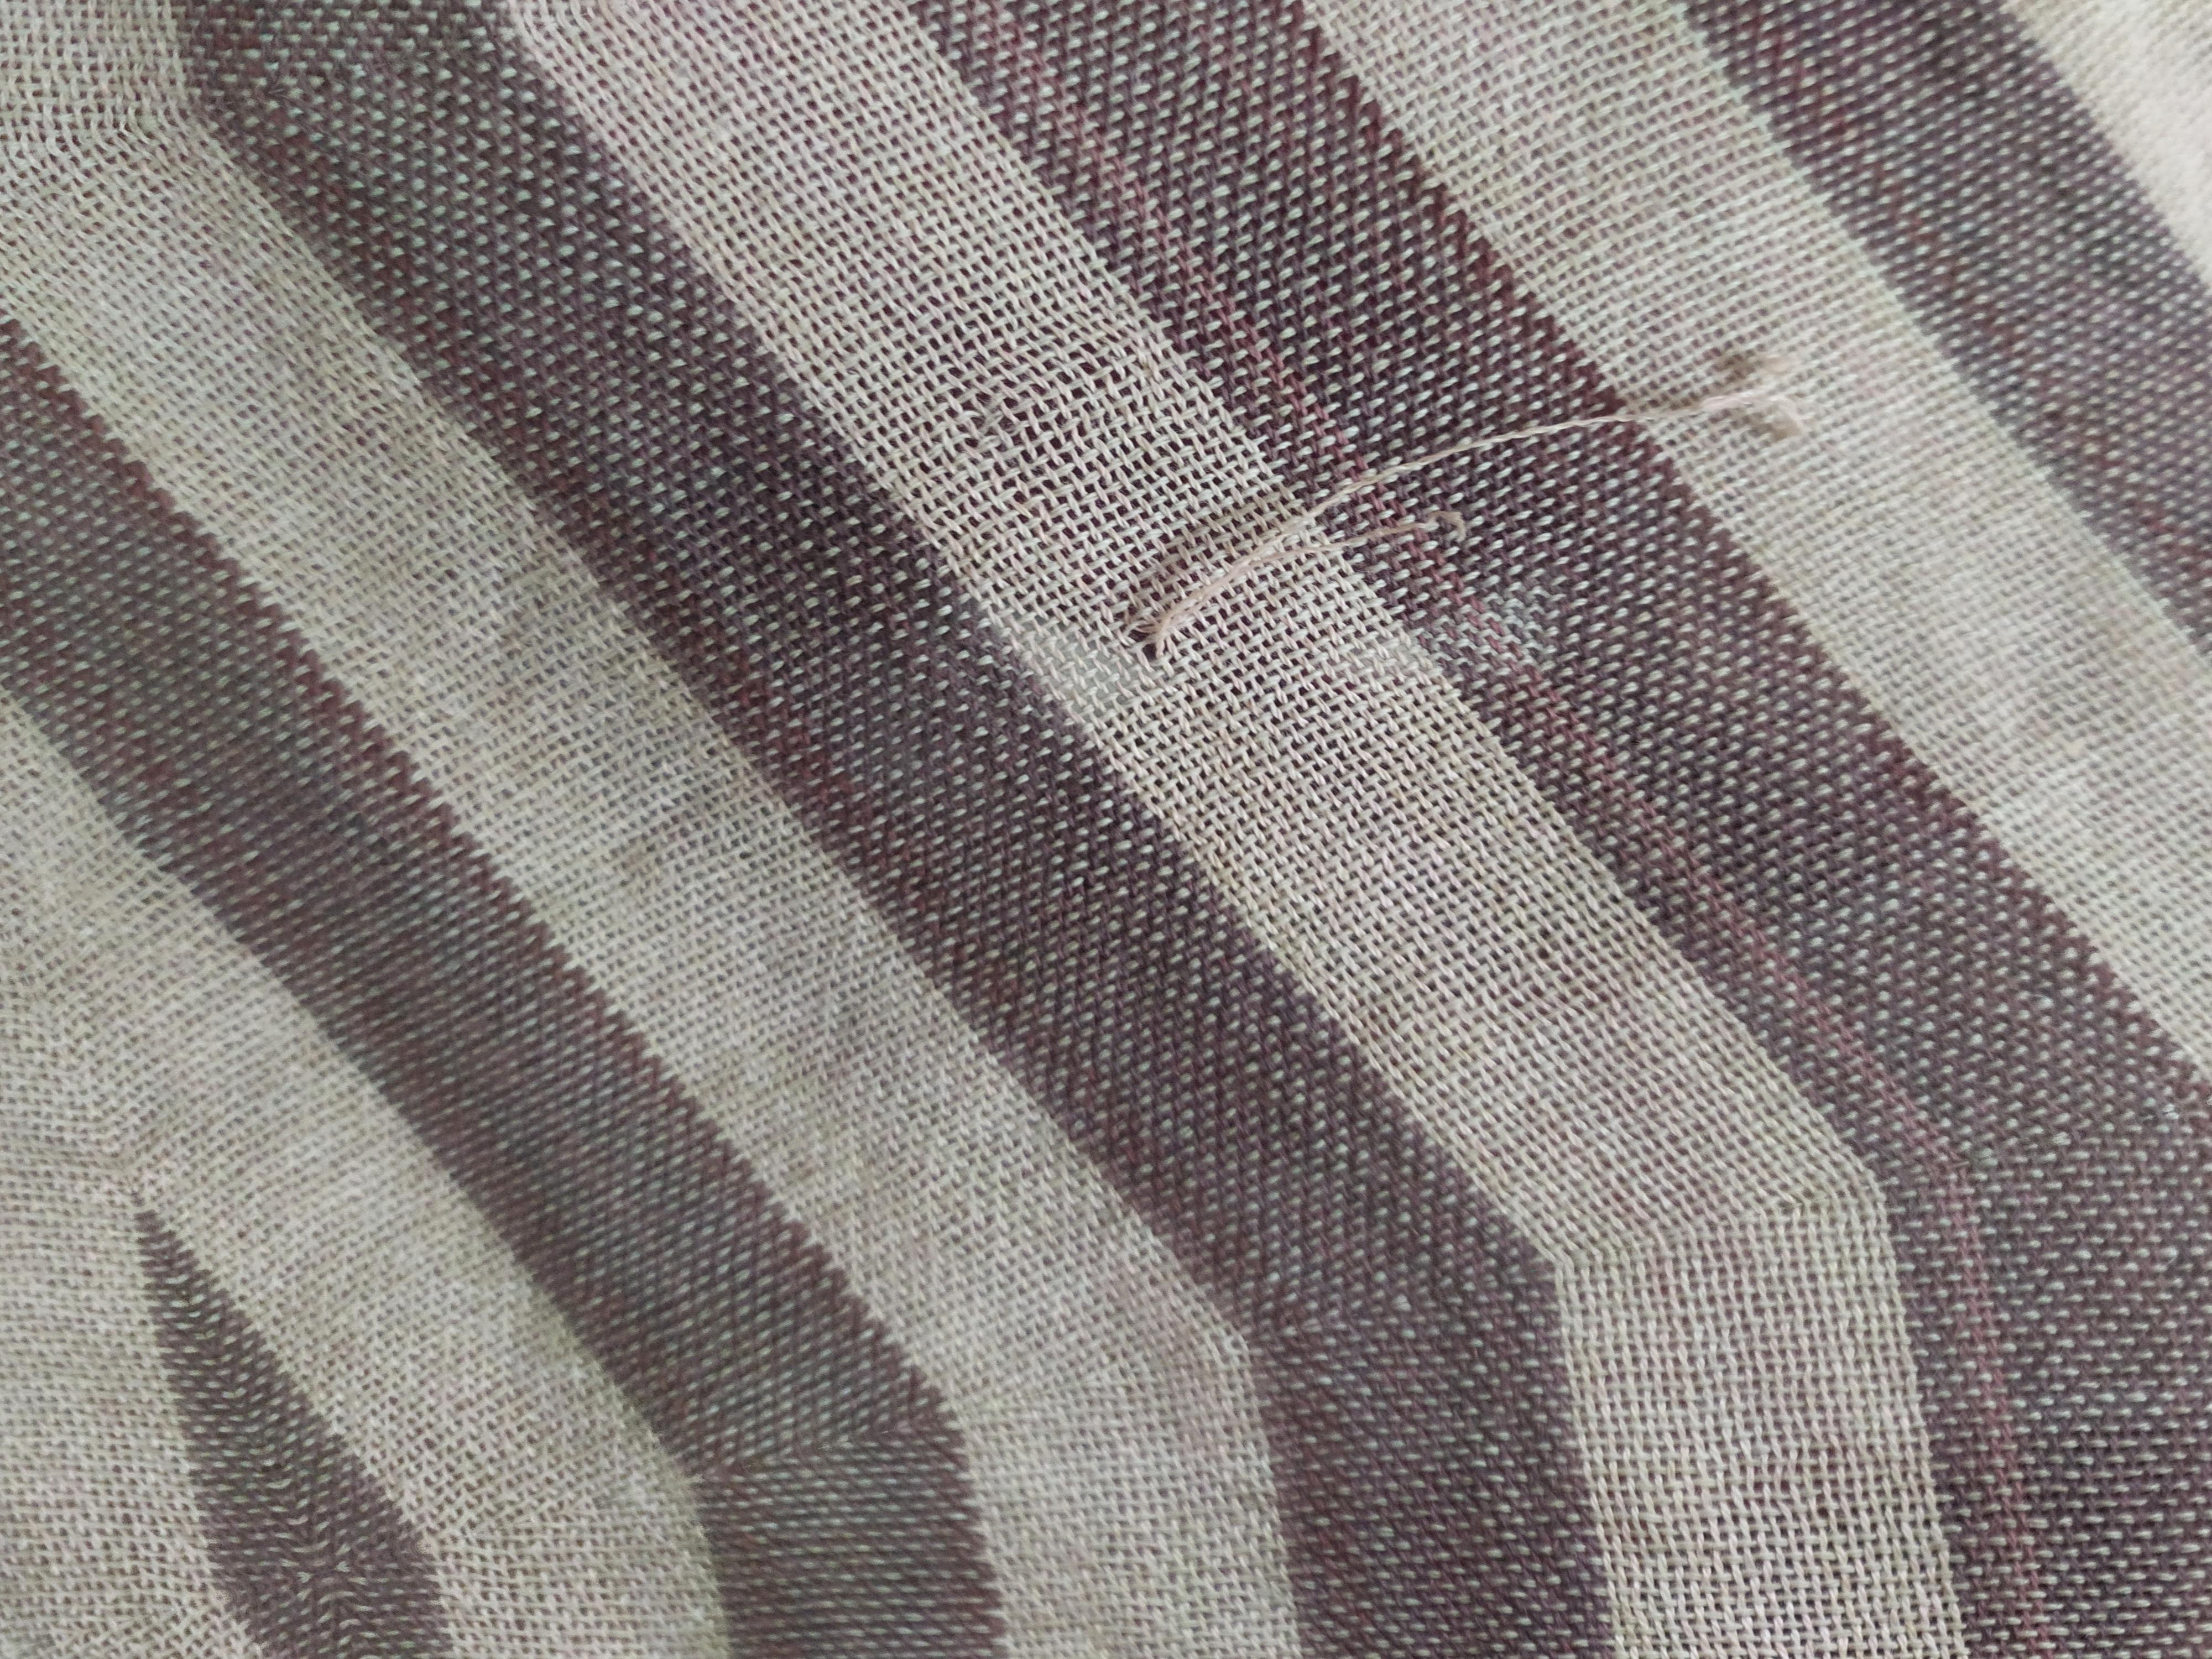snag: (1087, 472, 1395, 678)
